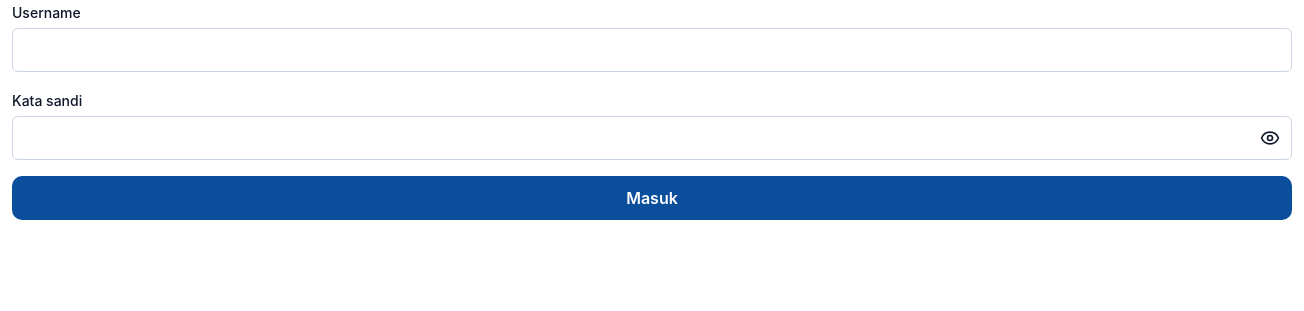
FormLogin › menampilkan pesan gagal dari server dalam alert dan mengaktifkan lagi tombolnya
The width and height of the screenshot is (1304, 311).
Type "admin" into the field labelled "Username". click: [652, 50]
box: [12,28,1292,72]
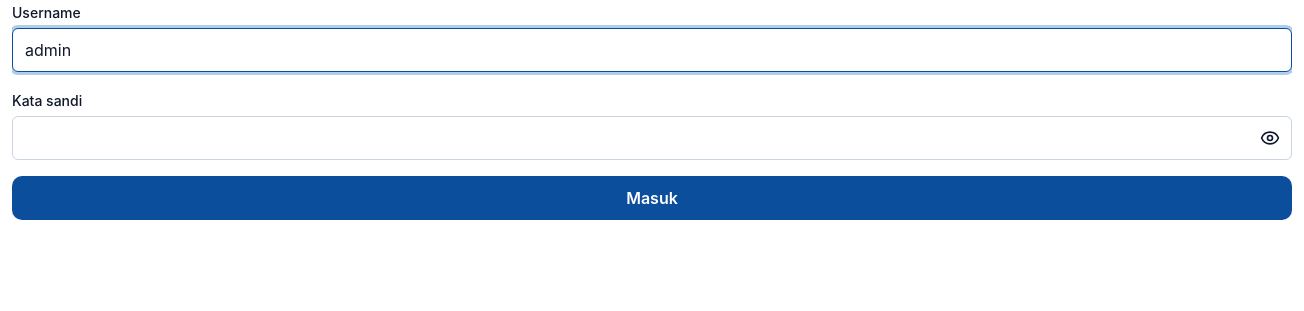
Type "salah" into the password field labelled "Kata sandi". click: [652, 138]
box: [12,116,1292,160]
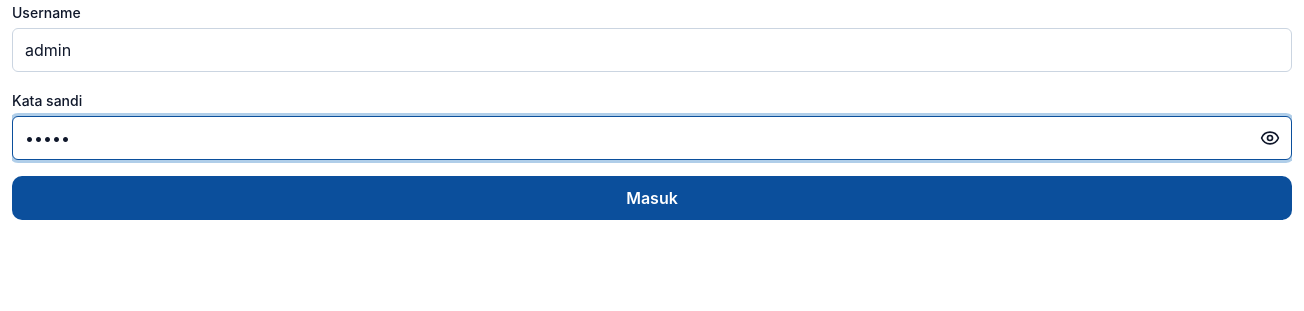
Click the button "Masuk". click: [652, 198]
box: [12,176,1292,220]
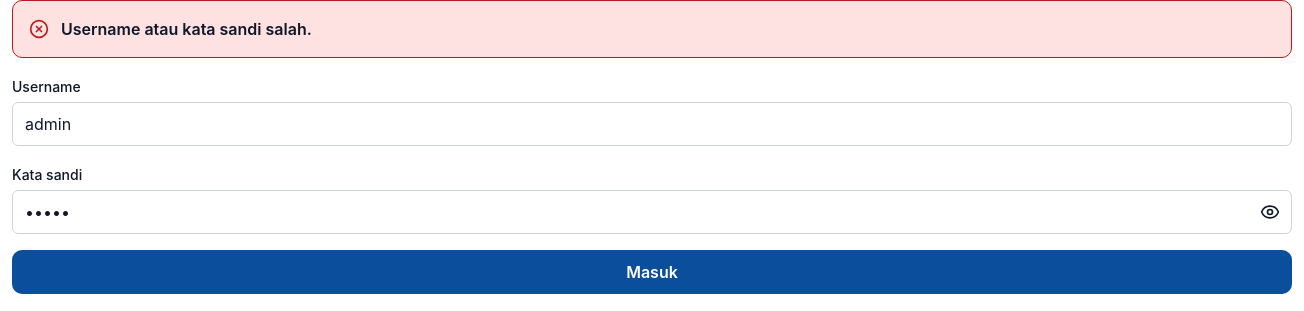
Expected: the button "Masuk" is enabled, [12,250,1292,294]
Now the message reads "Username atau kata sandi salah.", box [61,19,312,39]
